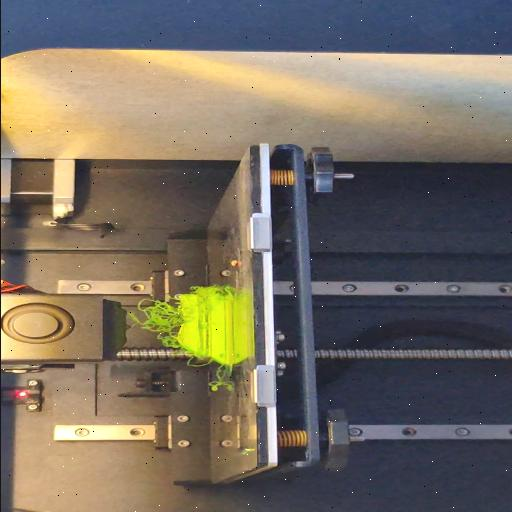spaghetti: (129, 298, 183, 348), (208, 365, 228, 393), (182, 357, 214, 369), (222, 282, 232, 294)
